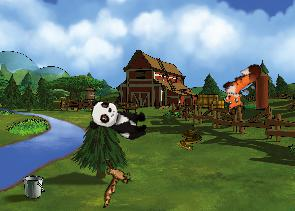eagle: (91, 154, 137, 208)
fox: (212, 60, 274, 118)
panda: (86, 97, 151, 142)
